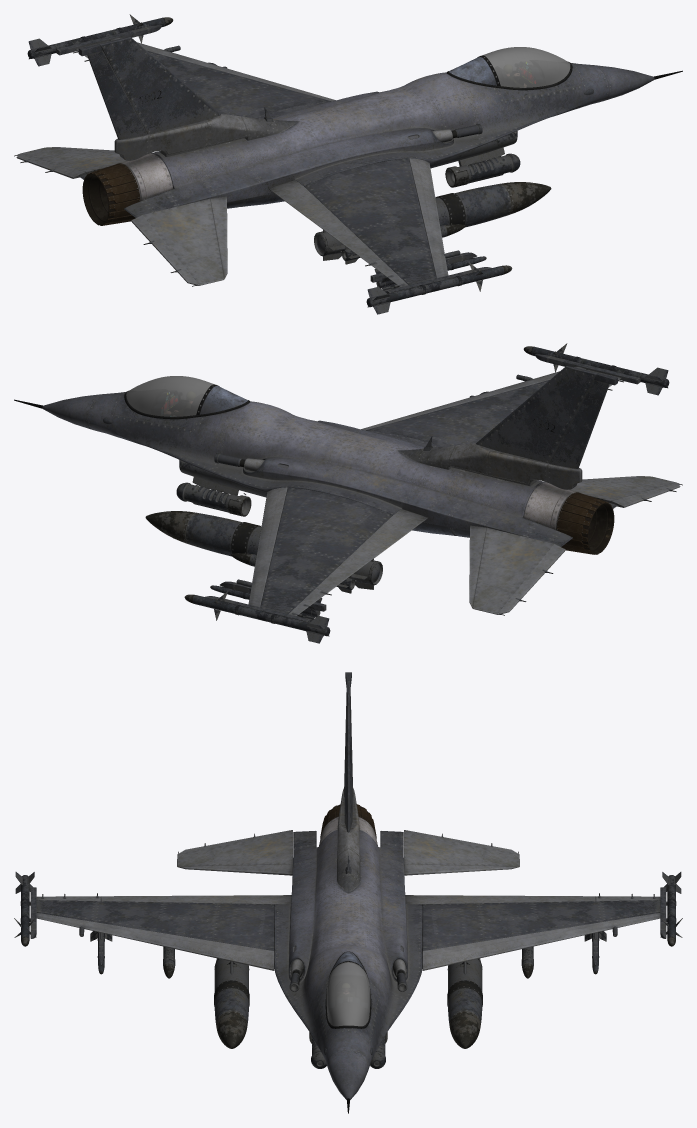
Rendered from viper.glb.
3 views of the same model, one above another, from view 1: azimuth 30°, elevation 25°; view 2: azimuth 150°, elevation 25°; view 3: azimuth 270°, elevation 25° (orthographic). The views are drawn at different scales.
Visible parts, largest first — view 1: body, missile, glass; view 2: body, missile, glass; view 3: body, missile, glass.
Part boxes in pixels (box(x1,y1,x2,y2)): body: box(14, 25, 682, 293); missile: box(27, 14, 551, 314); glass: box(483, 47, 570, 87); body: box(14, 354, 682, 622); missile: box(145, 343, 669, 643); glass: box(126, 376, 213, 416); body: box(29, 672, 667, 1113); missile: box(14, 872, 682, 1048); glass: box(326, 962, 370, 1026).
Bounding box in the file's own units: 9.54 × 3.23 × 9.62.
6 materials, 6 textured.
